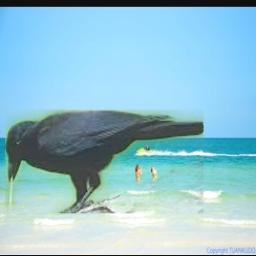Crow: (6, 111, 205, 214)
